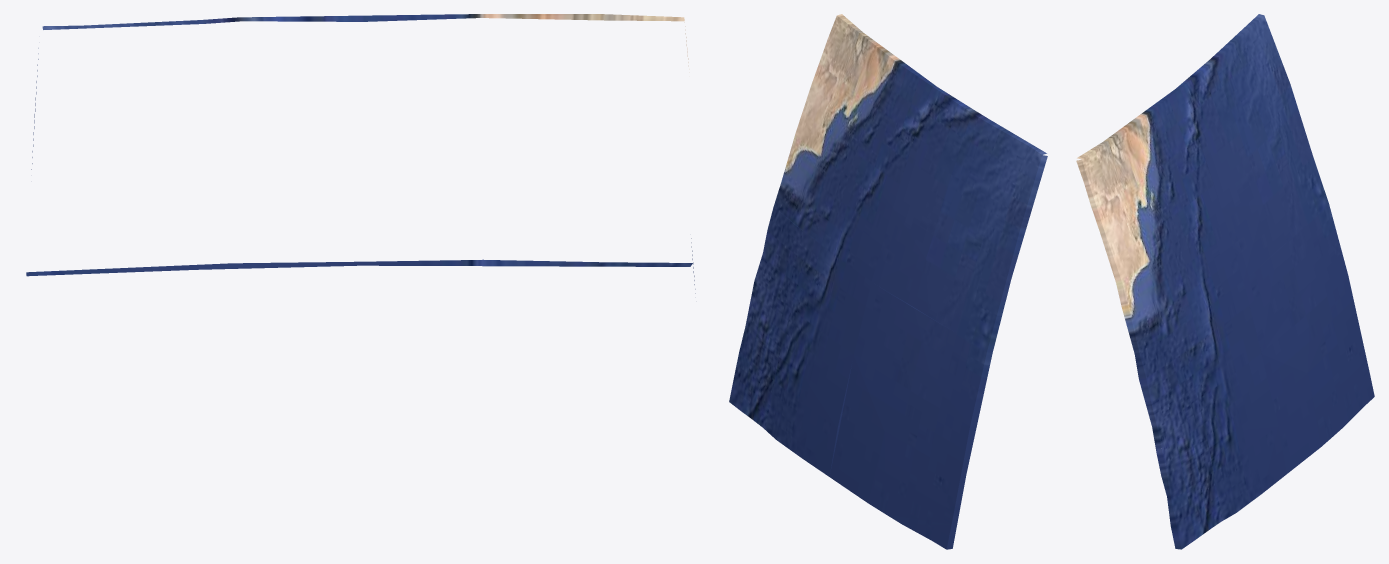
3 renders of one model, left to right at view 1: azimuth 30°, elevation 25°; view 2: azimuth 150°, elevation 25°; view 3: azimuth 270°, elevation 25°, orthographic. The views are drawn at different scales.
Size of the model in its own units: 1232857 by 1208540 by 894079.
Materials: 1 (1 with a texture image).
